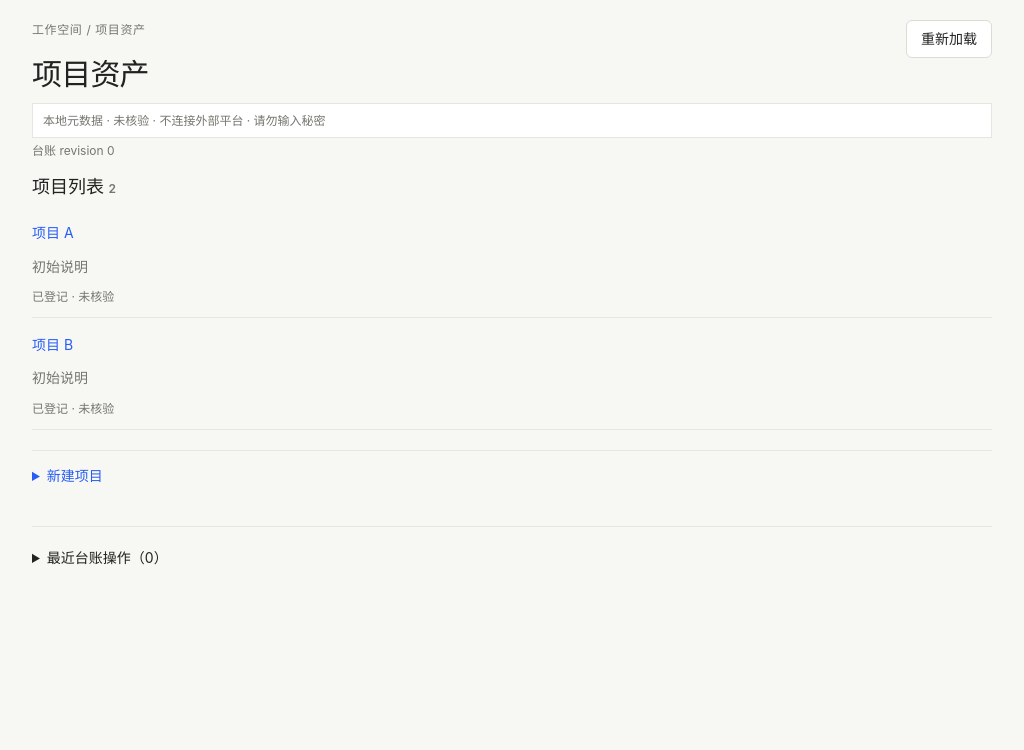
Scenario: keeps a target draft mounted across disclosure toggles and explicit conflict refresh
Click the button "项目 A" at [53, 233], box top-left (32, 217), bottom-right (74, 249)
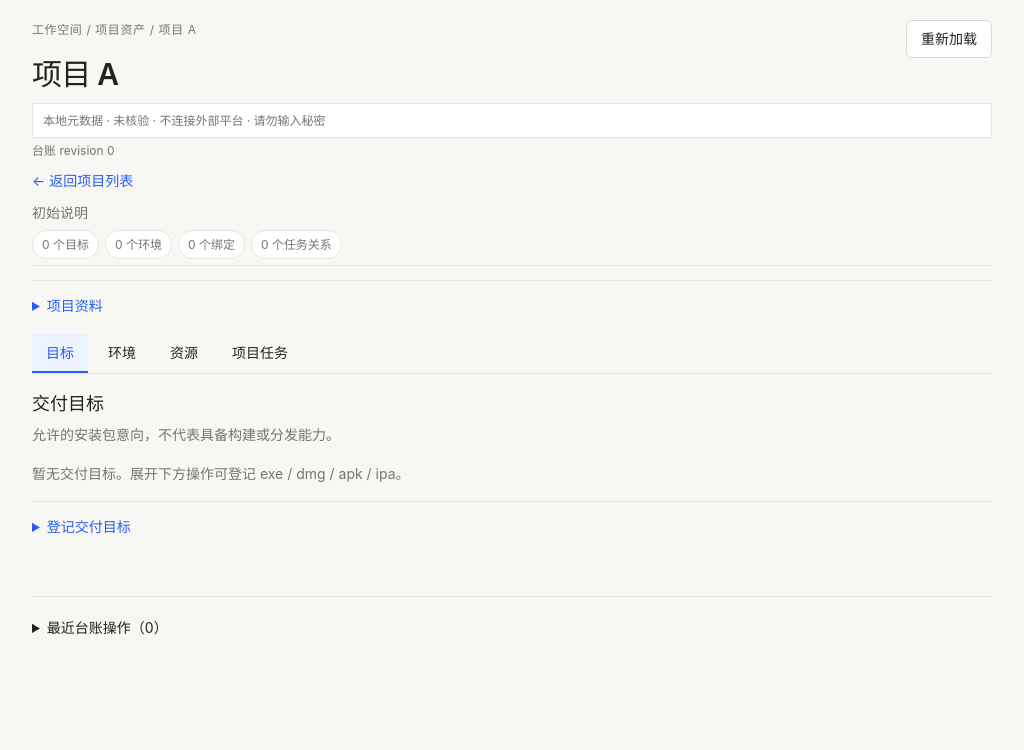
Expected: the field labelled "目标名称" is not shown
Click the heading "登记交付目标" at [89, 526], box top-left (47, 518), bottom-right (131, 535)
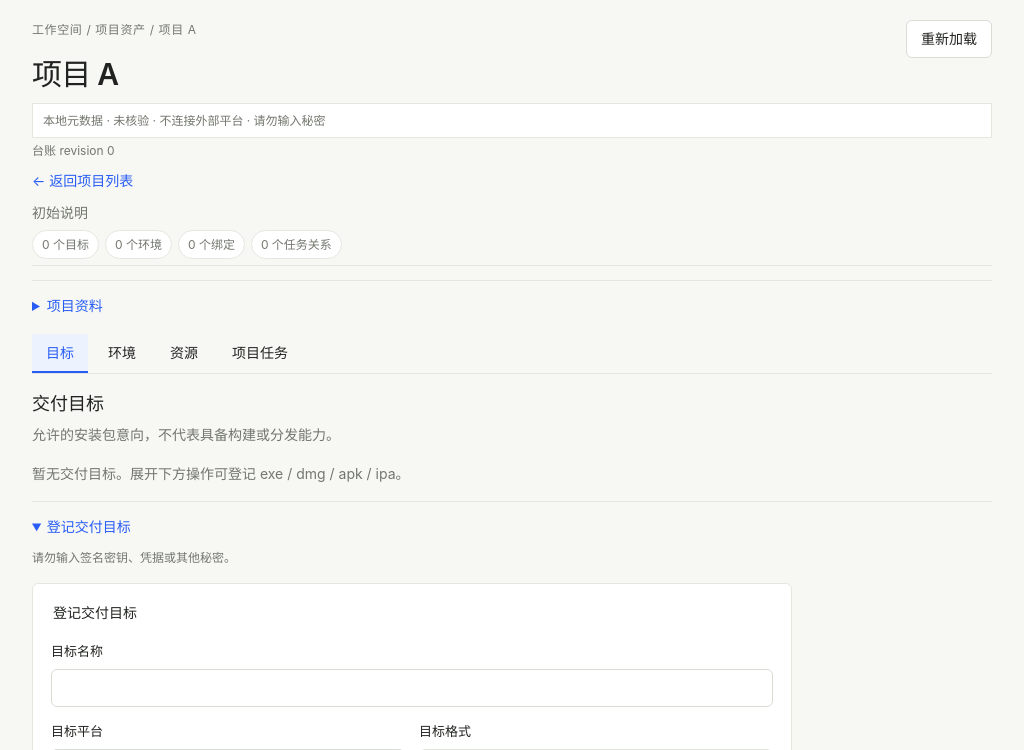
Expected: the field labelled "目标名称" is shown
Type "草稿" into the field labelled "目标名称" at [412, 688], box top-left (51, 669), bottom-right (773, 708)
Click the heading "登记交付目标" at [89, 526], box top-left (47, 518), bottom-right (131, 535)
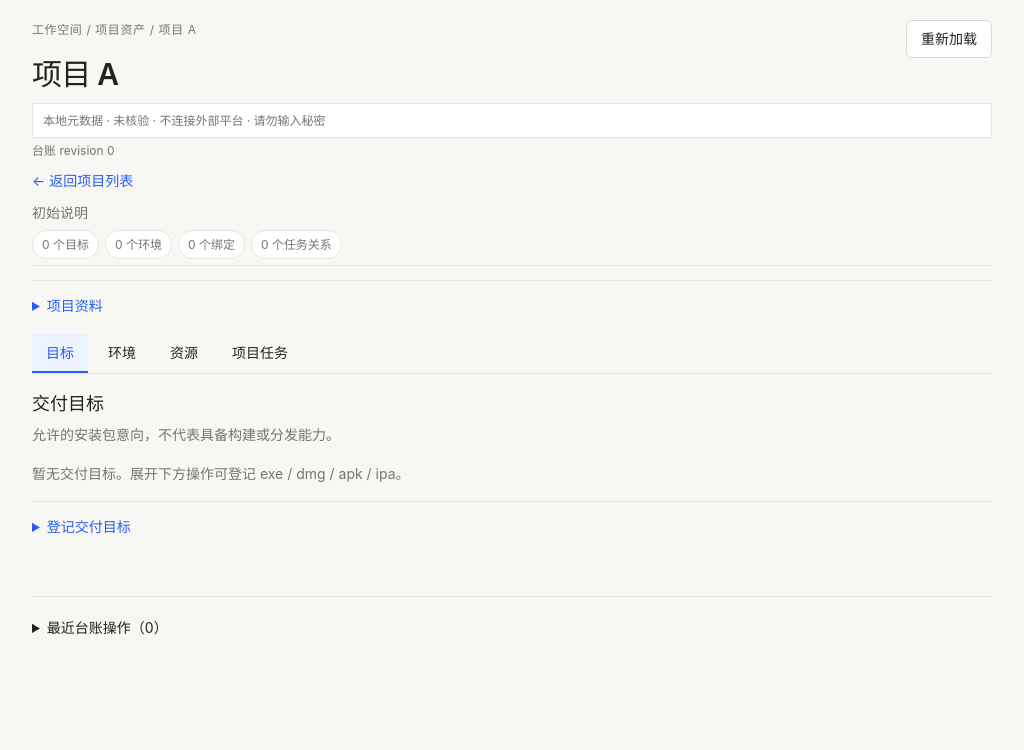
Click the heading "登记交付目标" at [89, 526], box top-left (47, 518), bottom-right (131, 535)
(page scrolled)
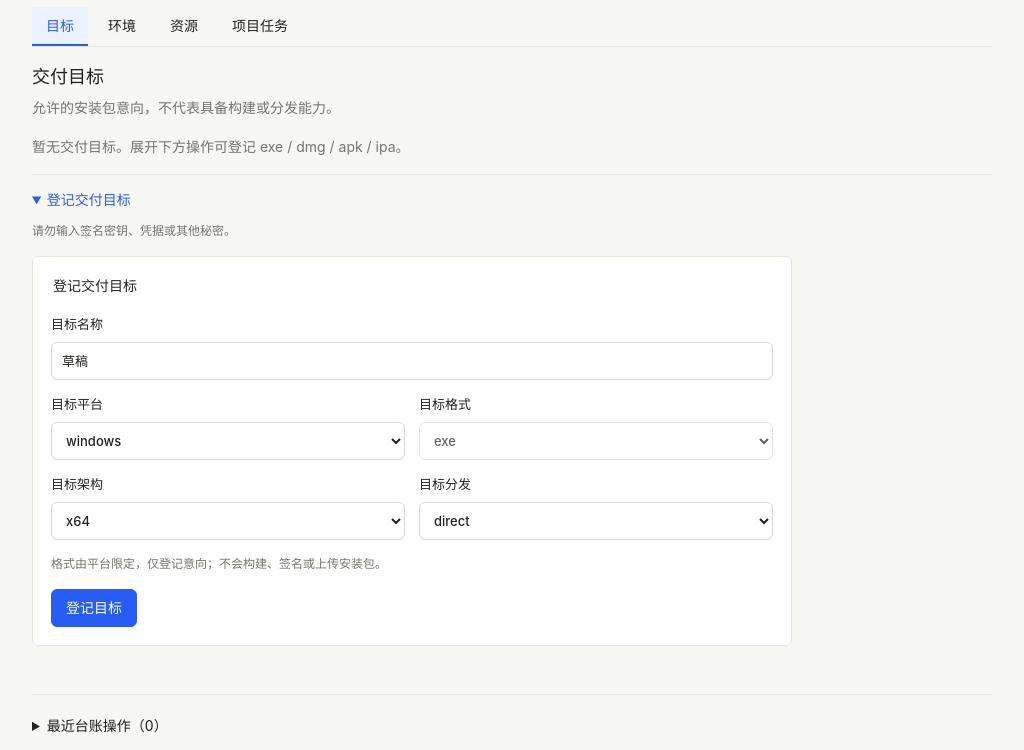
Click the button "登记目标" at [94, 608], box top-left (51, 589), bottom-right (137, 627)
(page scrolled)
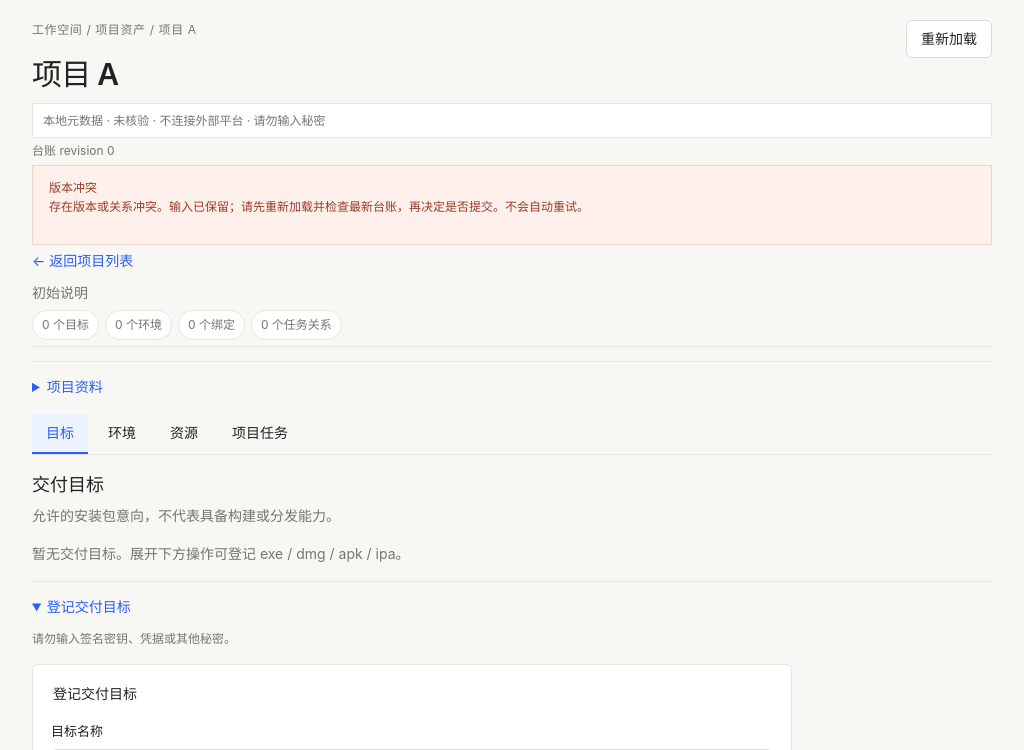
Expected: the message "版本冲突 存在版本或关系冲突。输入已保留；请先重新加载并检查最新台账，再决定是否提交。不会自动重试。" is shown, top-left (32, 165), bottom-right (992, 245)
Click the button "重新加载" at [949, 39], box top-left (906, 20), bottom-right (992, 58)
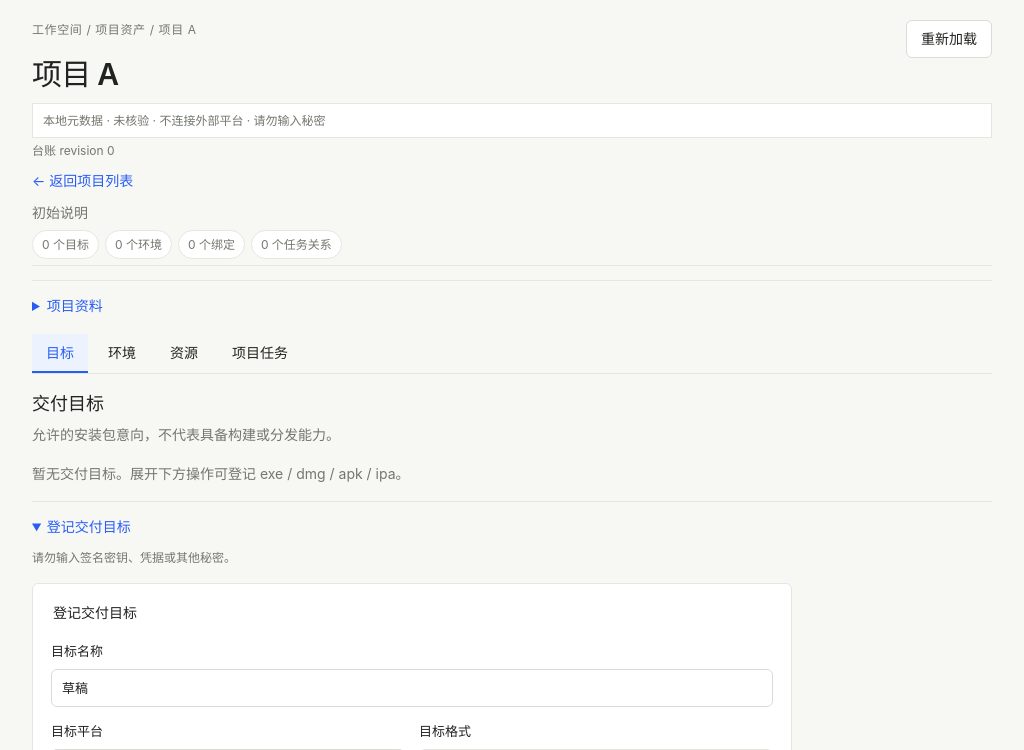
Expected: the message "版本冲突 存在版本或关系冲突。输入已保留；请先重新加载并检查最新台账，再决定是否提交。不会自动重试。" is gone
